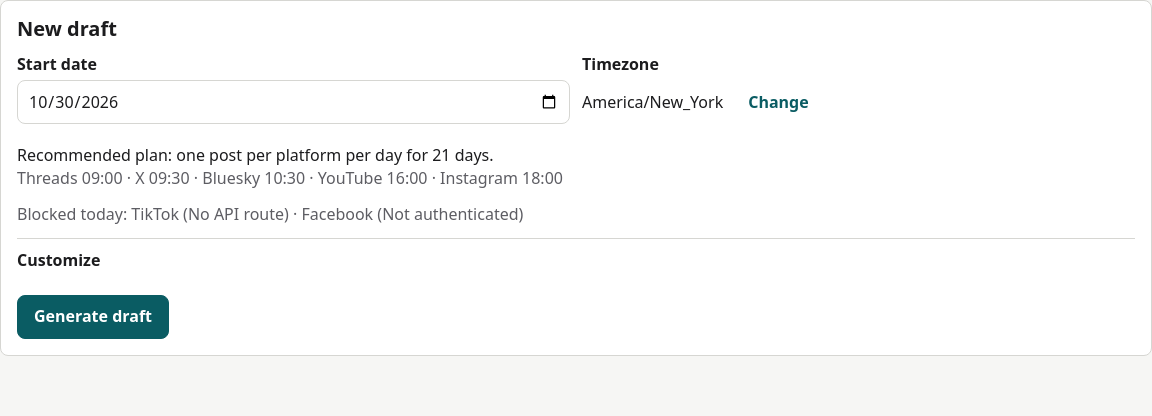
Test: New draft (preset first) › a changed timezone that the browser does not know is refused before anything is sent
Click the button "Change" at point(778, 102), box [731, 80, 826, 124]
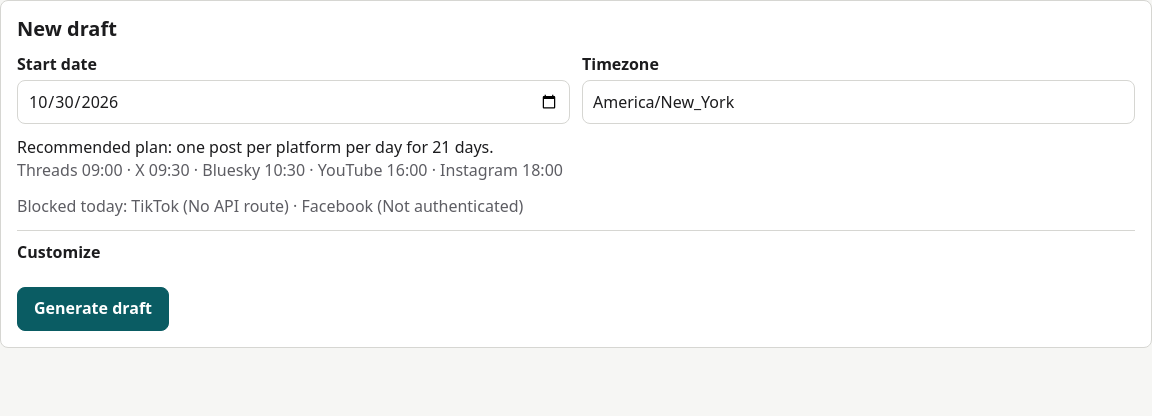
Replace the text in the field labelled "Timezone" with "Eastern" at point(858, 102), box [582, 80, 1135, 124]
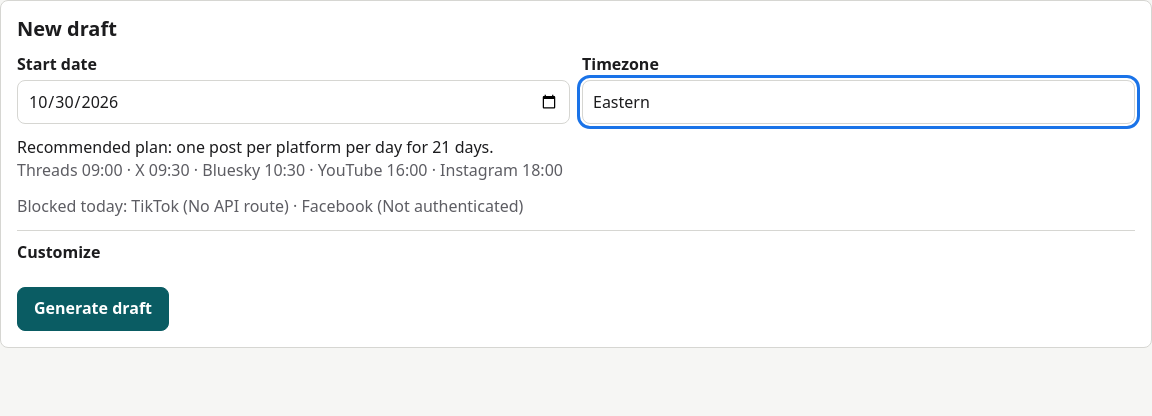
Click the button "Generate draft" at point(93, 309), box [17, 287, 169, 331]
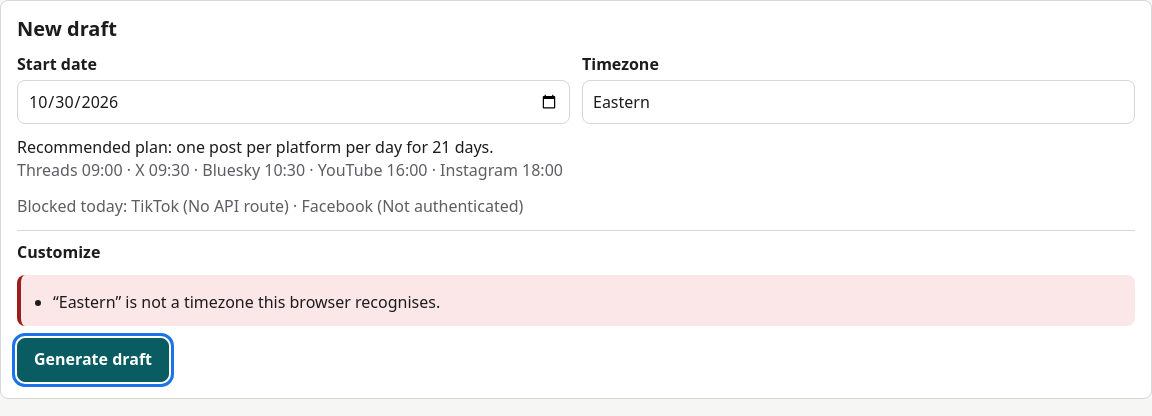
Expected: the message reads "“Eastern” is not a timezone this browser recognises.", [53, 291, 440, 313]
